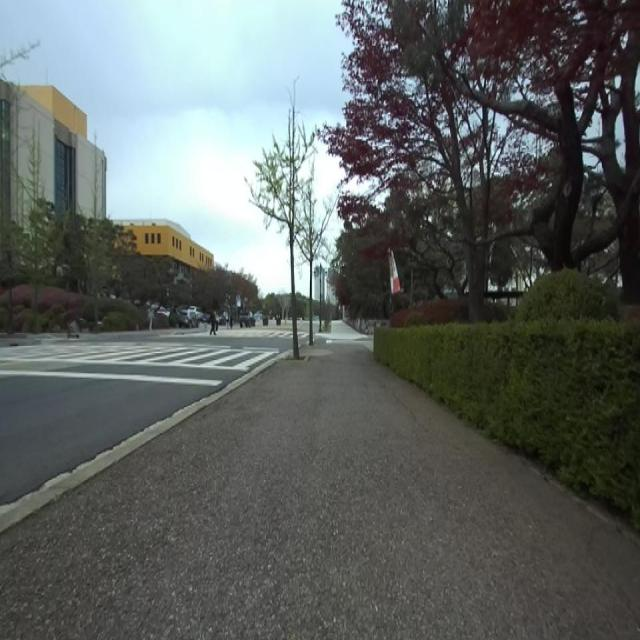sidewalk: (0, 343, 640, 639), (0, 352, 289, 533), (316, 320, 369, 339)
